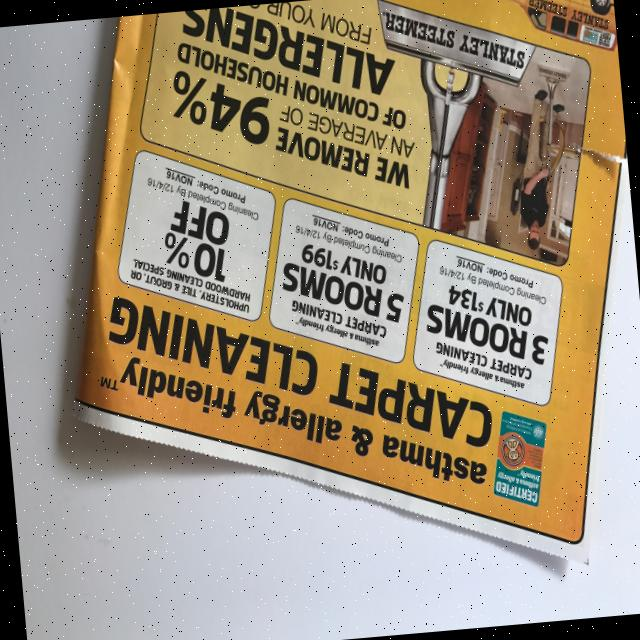paper: (37, 0, 640, 608)
